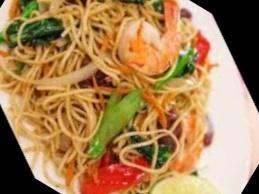pancit bihon: (1, 0, 208, 191)
